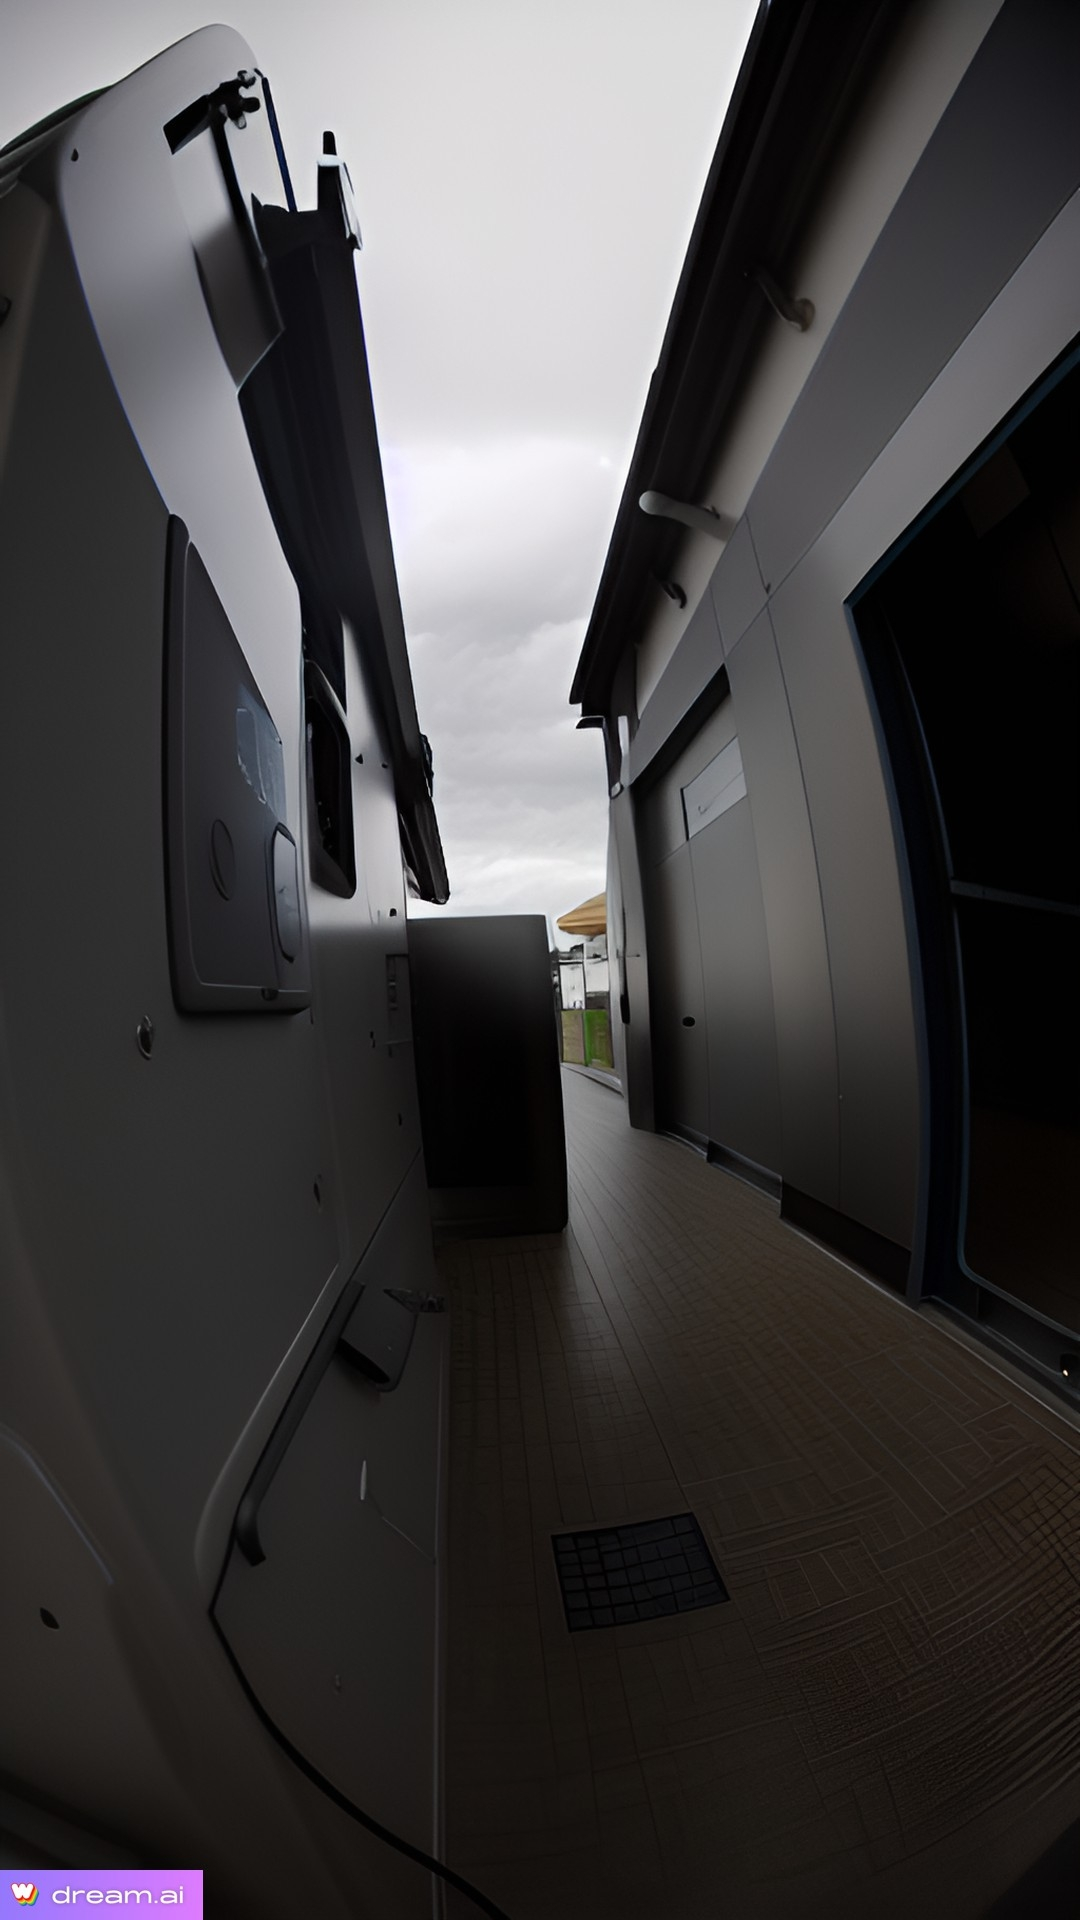door_back: (381, 891, 595, 1274)
